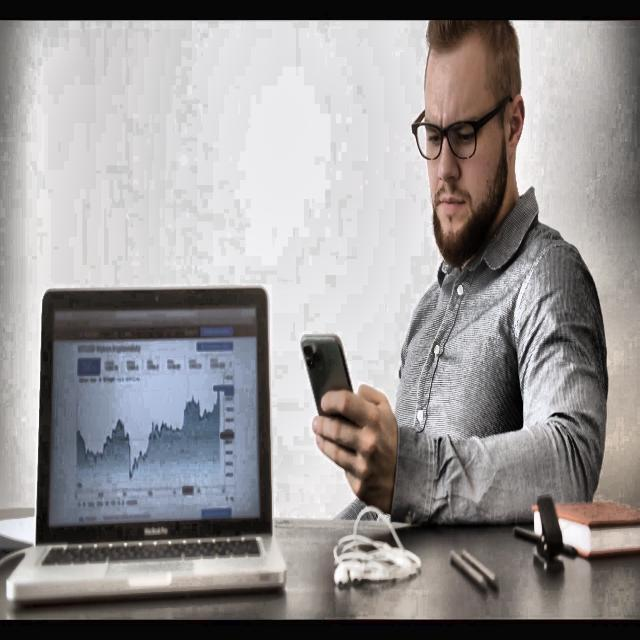Phone: (301, 333, 355, 424)
